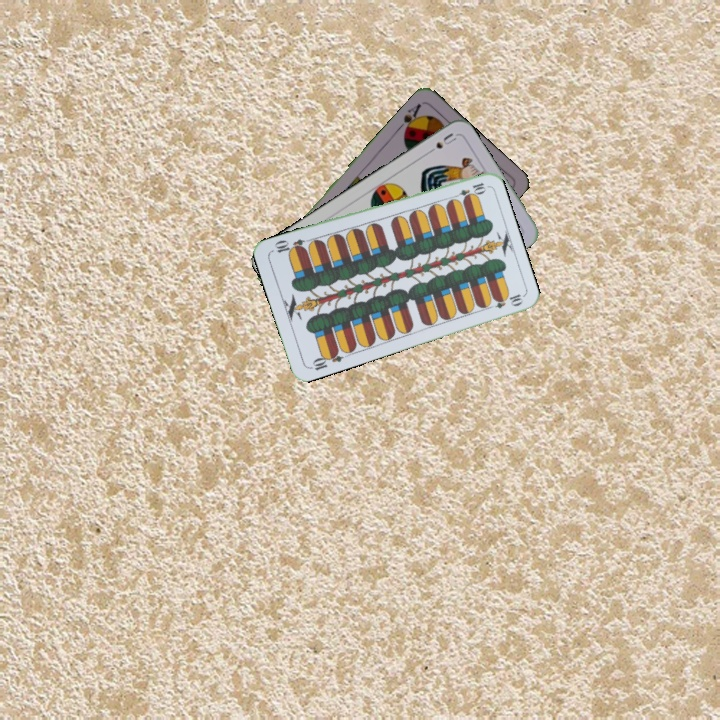E10: (306, 346, 345, 373), (448, 178, 488, 202)
SA: (394, 99, 424, 137)
SU: (422, 129, 459, 157)
